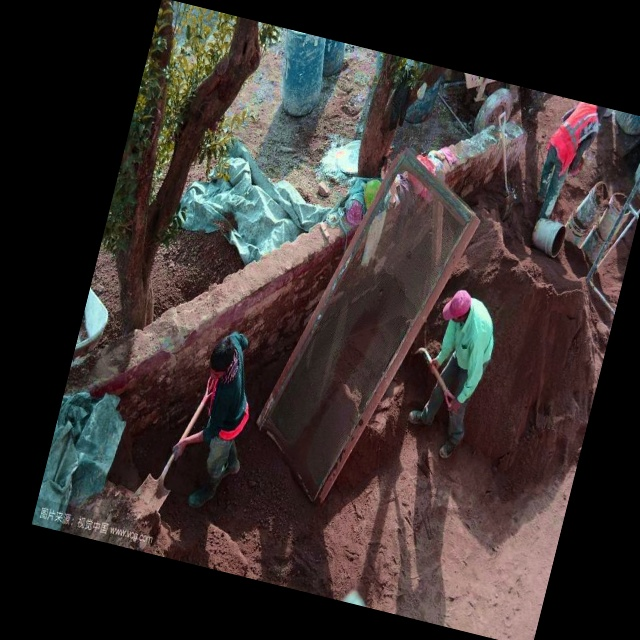Sin_Casco_Mascarrilla: (205, 334, 238, 381), (440, 285, 472, 329)
